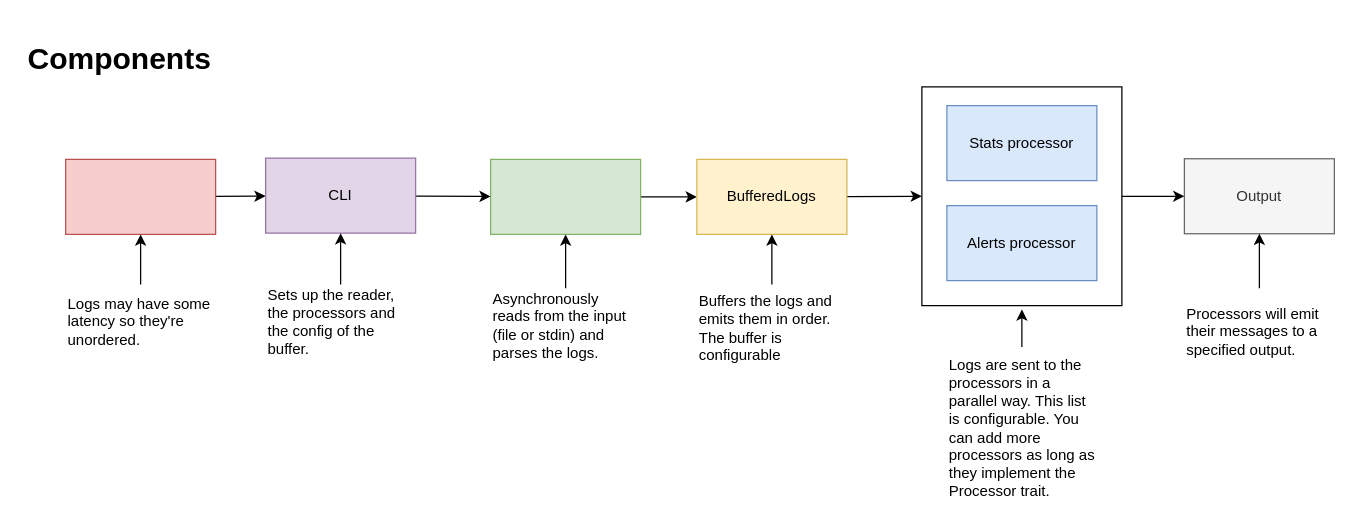
The diagram is 1356 pixels wide and 530 high, and some of its shapes have lost their labels. The shapes that lost their labels are listed below. From the top down, each one's centre as x and y in pixels, then its label:
At (x=140, y=196): "Data (logs)".
At (x=565, y=196): "Async CSV Reader".
